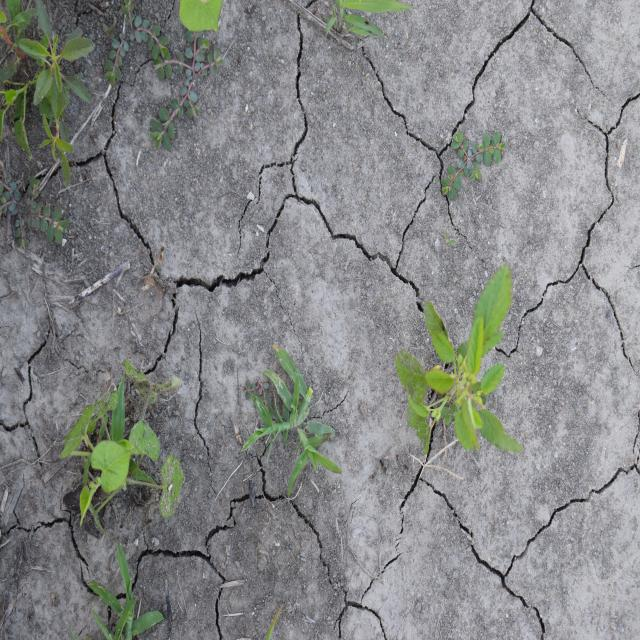Goosegrass: (238, 342, 344, 500), (81, 540, 165, 637)
MorningGlory: (58, 357, 186, 532)
PricklySida: (394, 260, 524, 458)
SpottedSpurge: (148, 27, 225, 152), (101, 1, 172, 88), (0, 173, 70, 253), (439, 129, 508, 203)
Waterhemp: (18, 3, 96, 189)
